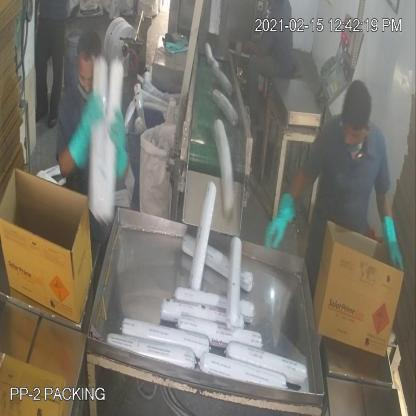glove: (254, 186, 300, 261), (67, 85, 104, 171), (373, 208, 411, 285)
